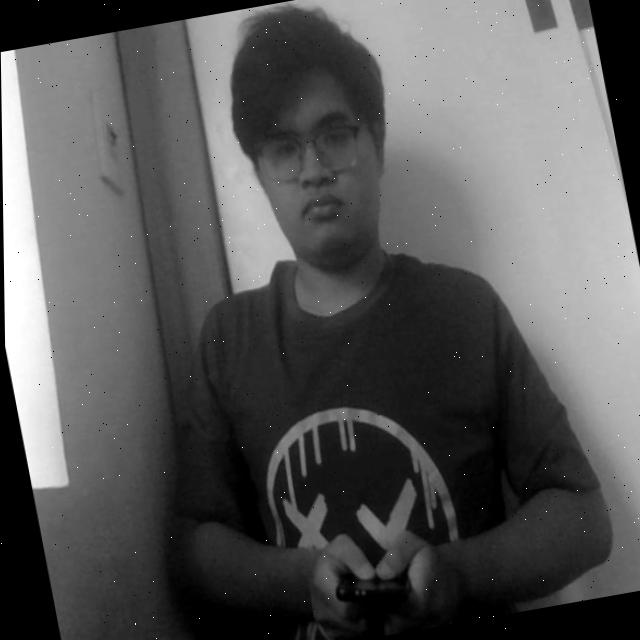phone: (320, 526, 426, 637)
